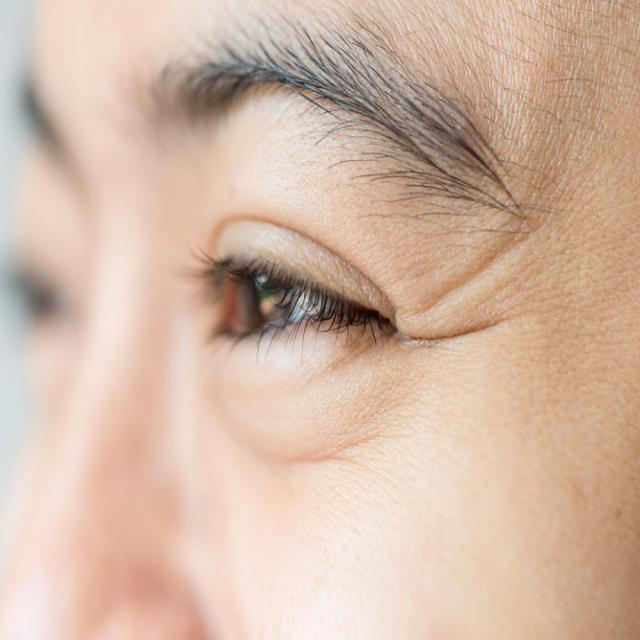Wrinkles: (404, 194, 536, 345)
